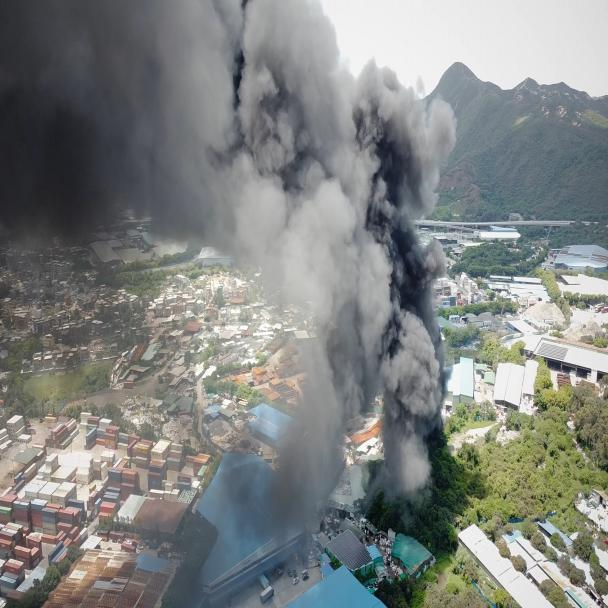smoke: (0, 5, 452, 548)
